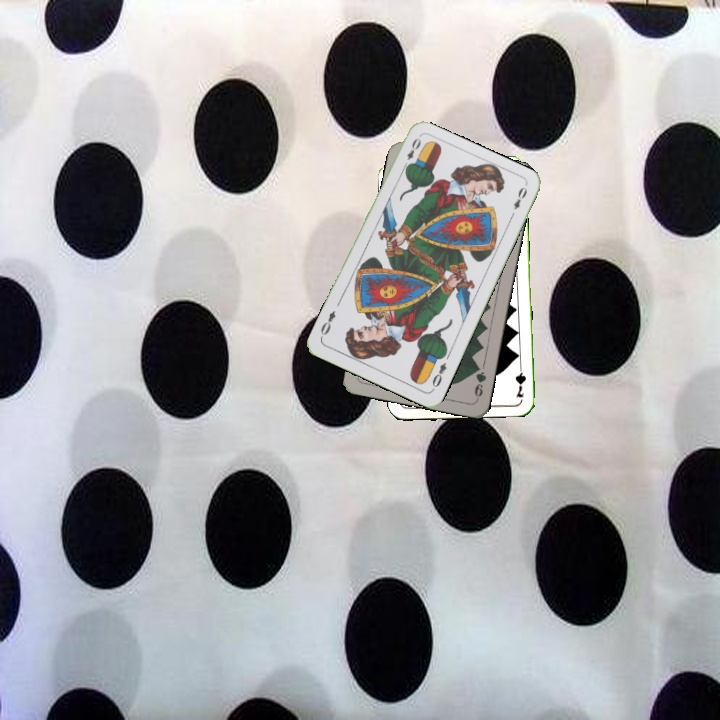EO: (399, 134, 424, 172), (428, 358, 449, 390)
G7: (511, 359, 528, 400)
G9: (470, 360, 489, 402)
